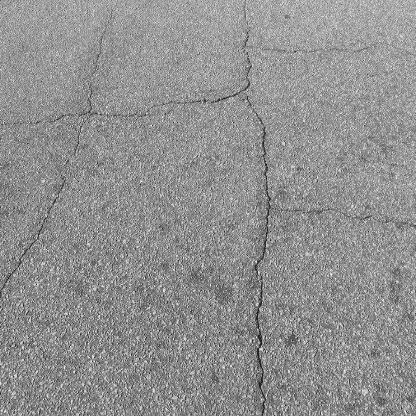Cracks: (199, 0, 416, 416), (0, 8, 198, 140), (0, 141, 83, 335)
